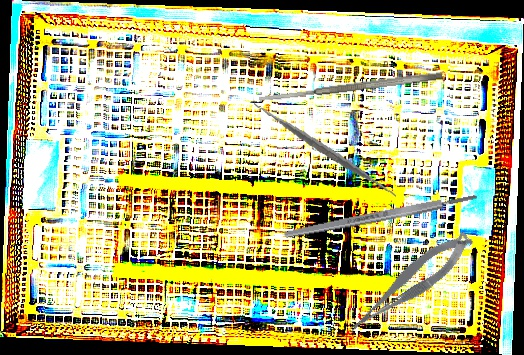Micro Scissor: (335, 226, 483, 339)
Scalpel Handle: (282, 191, 479, 241)
Spatula Surgical: (252, 77, 398, 222), (258, 70, 443, 104)
